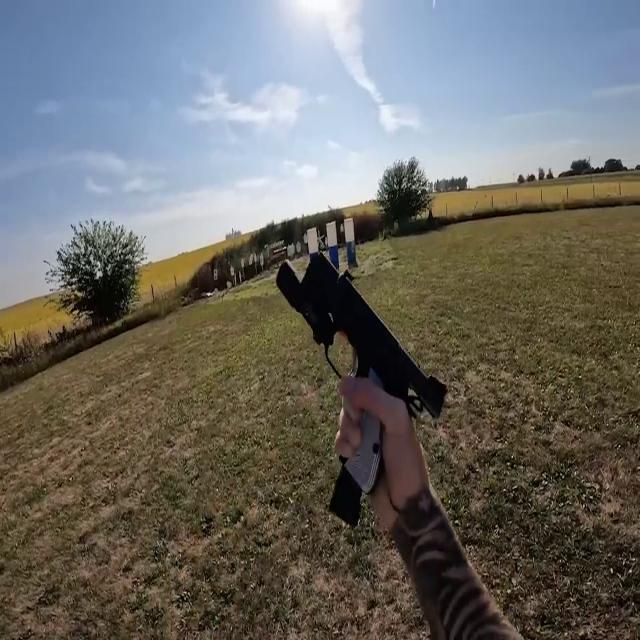Handgun: (267, 245, 453, 539)
